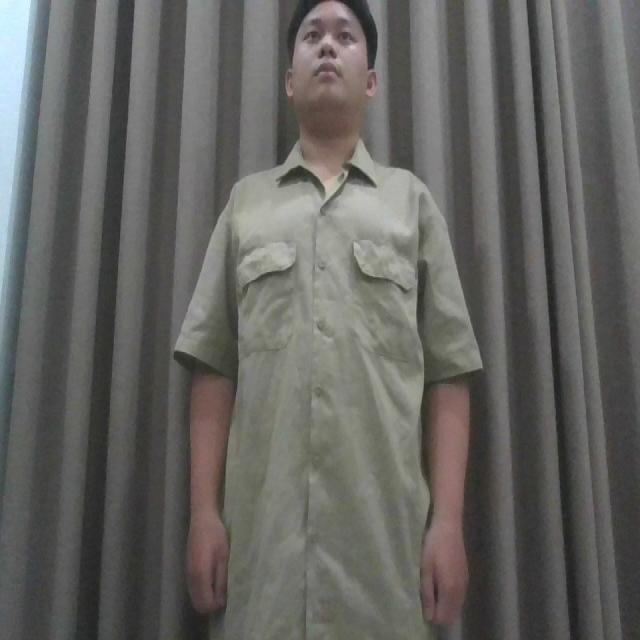short_Sleeve_shirt: (175, 140, 482, 639), (174, 140, 481, 637), (176, 141, 481, 639)
